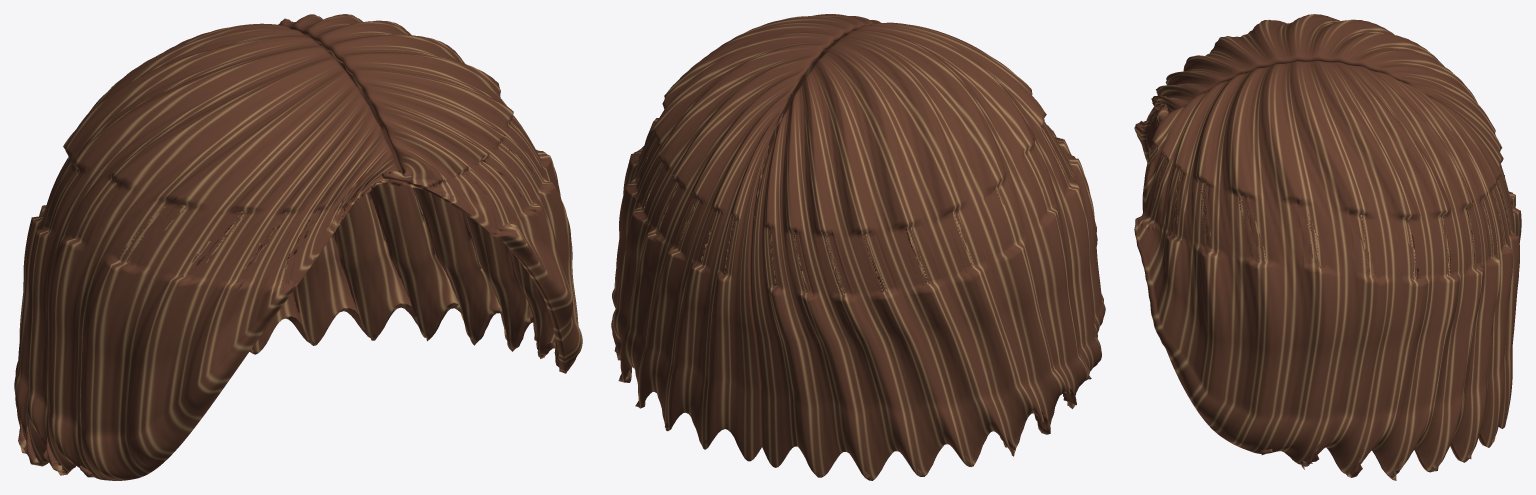
Rendered from Highlights-45d339fdd49e252-hair.glb.
3 views of the same model, side by side, from view 1: azimuth 30°, elevation 25°; view 2: azimuth 150°, elevation 25°; view 3: azimuth 270°, elevation 25° (orthographic). The views are drawn at different scales.
Parts seen in each view (by area): view 1: 226 hair / Hair252 / flowing sculpt flow.001; view 2: 226 hair / Hair252 / flowing sculpt flow.001; view 3: 226 hair / Hair252 / flowing sculpt flow.001.
Part boxes in pixels (<box>): 226 hair / Hair252 / flowing sculpt flow.001: <box>14,14,582,480</box>; 226 hair / Hair252 / flowing sculpt flow.001: <box>611,14,1105,480</box>; 226 hair / Hair252 / flowing sculpt flow.001: <box>1134,14,1521,480</box>.
Size of the model in its own units: 1.11 by 0.8603 by 0.8447.
1 material, 1 textured.
